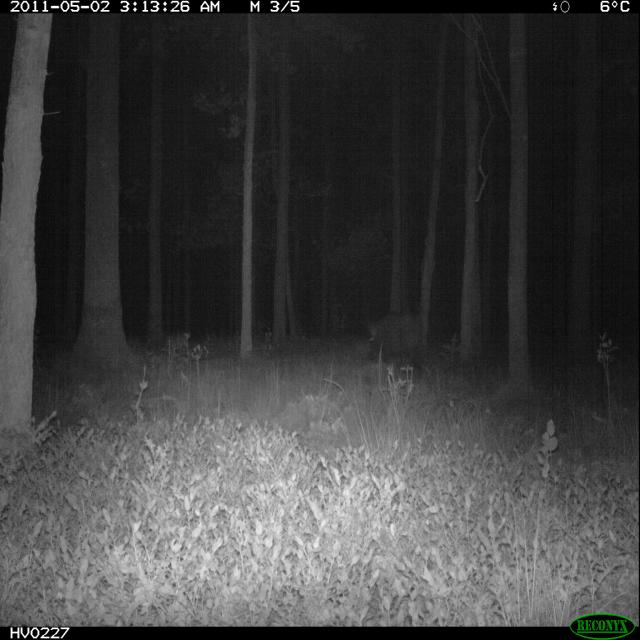boar: (354, 298, 447, 393)
